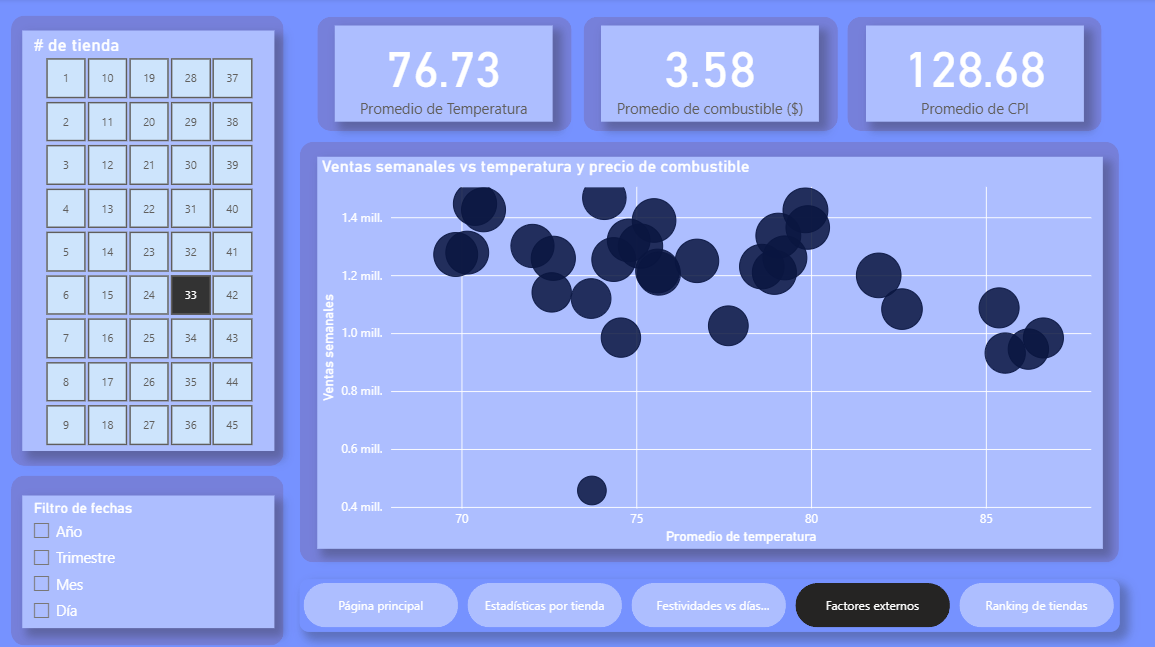

The dashboard page shown, as its layout file describes it:
{"tool":"powerbi","page":{"name":"Factores externos","canvas":[1280,720],"ordinal":3},"visuals":[{"type":"shape","box":[935.1,20,279.4,125.4],"z":0},{"type":"shape","box":[644.3,20,279.4,125.4],"z":1000},{"type":"shape","box":[352.1,20,279.4,125.4],"z":2000},{"type":"card","fields":{"Values":["Avg(Walmart.Temperature)"]},"box":[372,29.9,239.5,105.5],"z":3000},{"type":"card","fields":{"Values":["Avg(Walmart.Fuel_Price)"]},"box":[664.2,29.9,239.5,105.5],"z":4000},{"type":"card","fields":{"Values":["Avg(Walmart.CPI)"]},"box":[955,29.9,239.5,105.5],"z":5000},{"type":"shape","box":[333.5,158.2,899.4,461.8],"z":6000},{"type":"shape","box":[17.1,18.5,299.3,494.6],"z":7000},{"type":"slicer","fields":{"Values":["Walmart.Store"]},"box":[28.5,35.6,276.5,461.8],"z":8000},{"type":"shape","box":[17.1,524.5,299.3,186.7],"z":9000},{"type":"slicer","fields":{"Values":["Modelado_fechas.Parámetro"]},"box":[28.5,545.9,276.5,145.4],"z":10000},{"type":"scatterChart","title":"Ventas semanales vs temperatura y precio de combustible","fields":{"Category":["Walmart.Date.Variación.Jerarquía de fechas.Año","Walmart.Date.Variación.Jerarquía de fechas.Trimestre","Walmart.Date.Variación.Jerarquía de fechas.Mes","Walmart.Date.Variación.Jerarquía de fechas.Día"],"Y":["Sum(Walmart.Weekly_Sales)"],"X":["Avg(Walmart.Temperature)"],"Size":["Sum(Walmart.Fuel_Price)"]},"box":[352.1,173.9,862.4,430.5],"z":11000},{"type":"pageNavigator","box":[333.4,638.1,900.2,57.6],"z":12000}]}

Visuals, with their boxes in screenshot pixels (x1, y1, x2, y2), scaled from the page's 1280x720 canvas onto the 1155x647 screenshot:
shape: x1=844, y1=18, x2=1096, y2=131
shape: x1=581, y1=18, x2=833, y2=131
shape: x1=318, y1=18, x2=570, y2=131
card - Avg(Walmart.Temperature): x1=336, y1=27, x2=552, y2=122
card - Avg(Walmart.Fuel_Price): x1=599, y1=27, x2=815, y2=122
card - Avg(Walmart.CPI): x1=862, y1=27, x2=1078, y2=122
shape: x1=301, y1=142, x2=1112, y2=557
shape: x1=15, y1=17, x2=286, y2=461
slicer - Walmart.Store: x1=26, y1=32, x2=275, y2=447
shape: x1=15, y1=471, x2=286, y2=639
slicer - Modelado_fechas.Parámetro: x1=26, y1=491, x2=275, y2=621
"Ventas semanales vs temperatura y precio de combustible" scatterChart: x1=318, y1=156, x2=1096, y2=543
pageNavigator: x1=301, y1=573, x2=1113, y2=625
